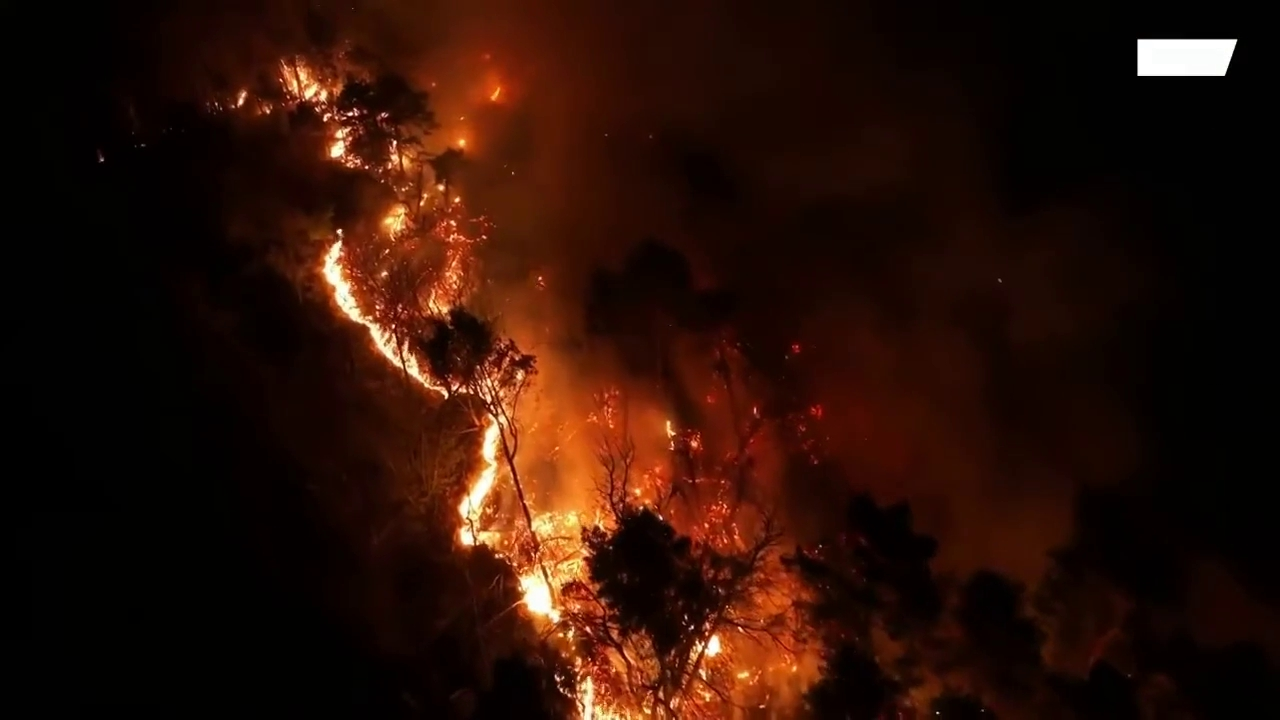forest_fire: (280, 58, 800, 718), (232, 92, 250, 105), (480, 338, 492, 353), (489, 87, 501, 100), (751, 409, 758, 425), (263, 105, 272, 110), (443, 347, 447, 353), (463, 310, 466, 317), (507, 344, 512, 348), (497, 341, 501, 345), (747, 429, 752, 432), (426, 343, 429, 344), (760, 705, 761, 706), (454, 357, 455, 358)
